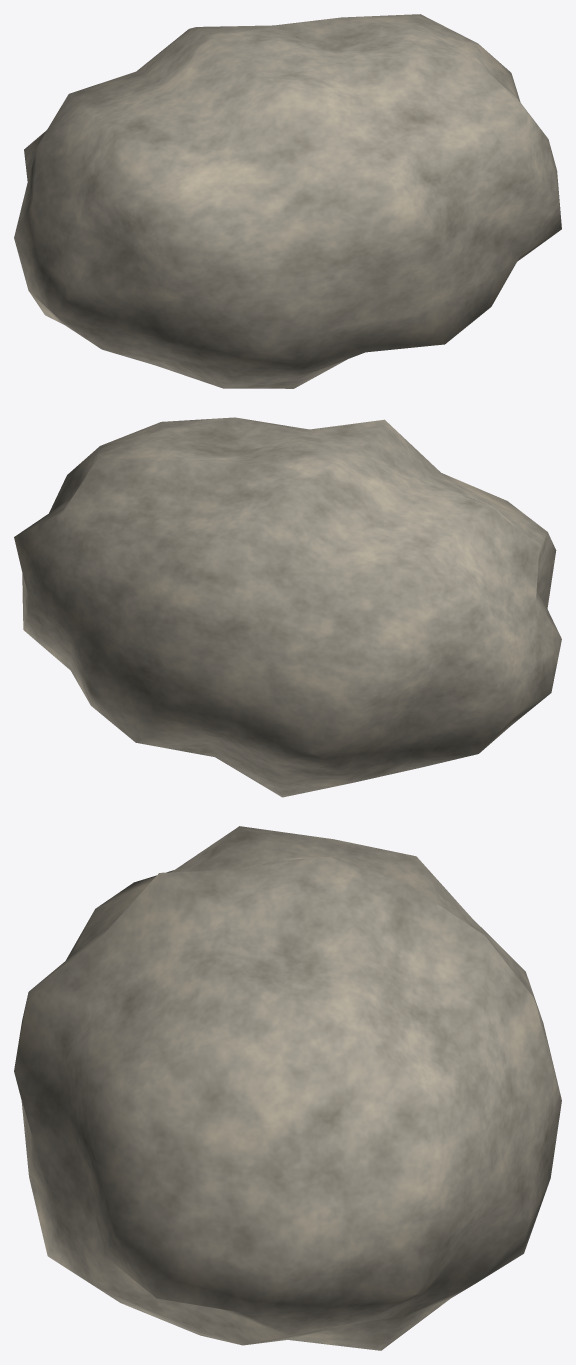
File: original-rock-bake.glb
The picture shows the model from 3 angles, top to bottom: view 1: azimuth 30°, elevation 25°; view 2: azimuth 150°, elevation 25°; view 3: azimuth 270°, elevation 25°; orthographic projection. The views are drawn at different scales.
Visible parts, largest first — view 1: original_porous_rock; view 2: original_porous_rock; view 3: original_porous_rock.
Part boxes in pixels (x1,y1,x2,y2): original_porous_rock: (14,14,561,388); original_porous_rock: (14,417,561,797); original_porous_rock: (14,826,561,1350).
Size of the model in its own units: 0.4088 by 0.2437 by 0.2998.
1 material, 1 textured.
